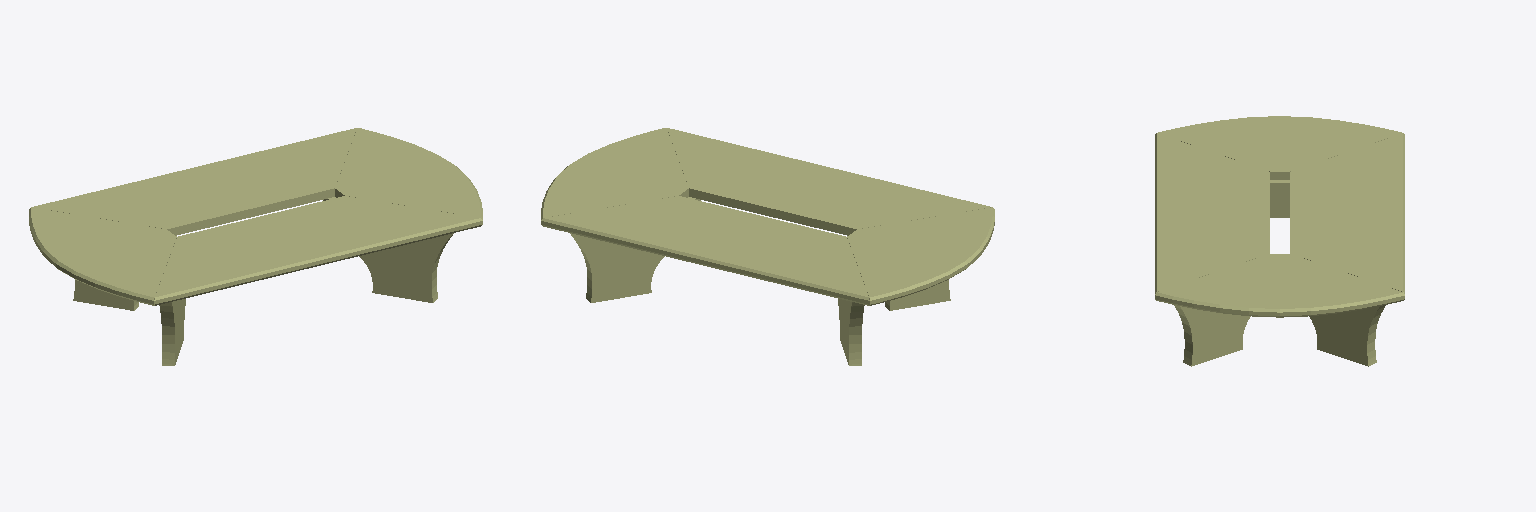
File: table.obj
3 renders of one model, left to right at view 1: azimuth 30°, elevation 25°; view 2: azimuth 150°, elevation 25°; view 3: azimuth 270°, elevation 25°, orthographic.
Bounding box in the file's own units: 3.5 × 0.7261 × 1.9.